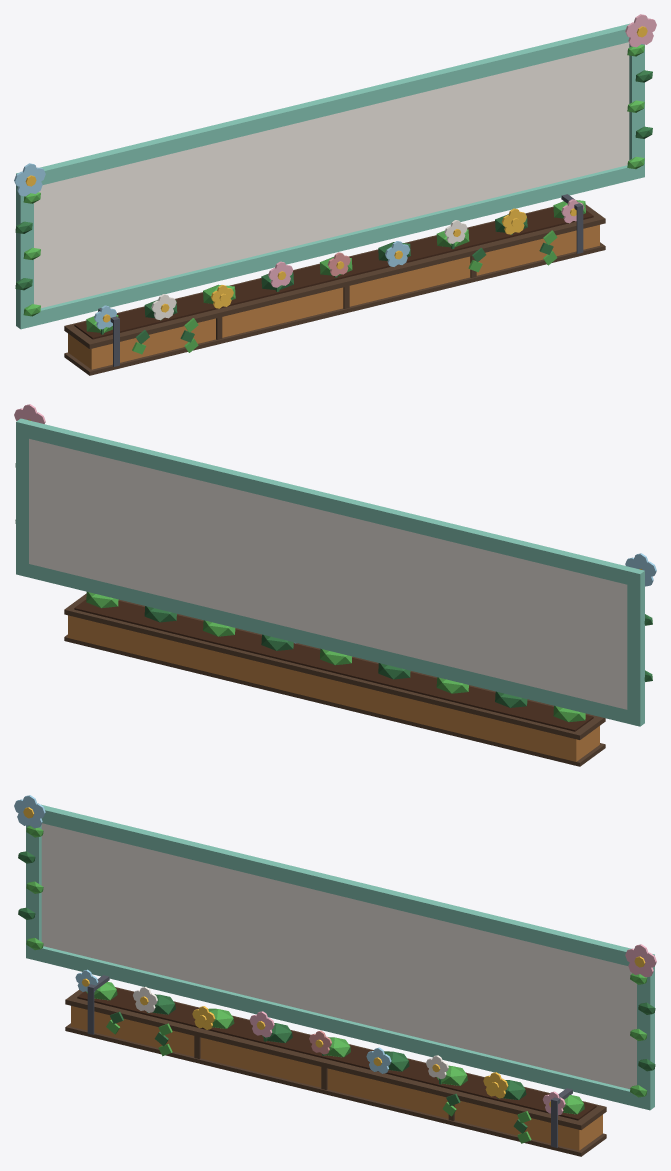
File: CatCafe_Plot_SignFlowerBox.glb
3 views of the same model, one above another, from view 1: azimuth 30°, elevation 25°; view 2: azimuth 150°, elevation 25°; view 3: azimuth 330°, elevation 25° (orthographic).
Visible parts, largest first — view 1: CatCafe_Plot_SignFlowerBox_SignBoard, CatCafe_Plot_SignFlowerBox, CatCafe_Plot_SignFlowerBox_Frame; view 2: CatCafe_Plot_SignFlowerBox_SignBoard, CatCafe_Plot_SignFlowerBox, CatCafe_Plot_SignFlowerBox_Frame; view 3: CatCafe_Plot_SignFlowerBox_SignBoard, CatCafe_Plot_SignFlowerBox, CatCafe_Plot_SignFlowerBox_Frame.
Boxes of the visible parts, x1,y1,x2,y2 form: CatCafe_Plot_SignFlowerBox_SignBoard: (34,42,629,308); CatCafe_Plot_SignFlowerBox: (14,14,656,375); CatCafe_Plot_SignFlowerBox_Frame: (16,23,644,329); CatCafe_Plot_SignFlowerBox_SignBoard: (29,439,627,709); CatCafe_Plot_SignFlowerBox: (14,404,656,766); CatCafe_Plot_SignFlowerBox_Frame: (16,418,644,726); CatCafe_Plot_SignFlowerBox_SignBoard: (41,823,636,1089); CatCafe_Plot_SignFlowerBox: (14,795,656,1156); CatCafe_Plot_SignFlowerBox_Frame: (26,804,654,1110).
Size of the model in its own units: 17.17 by 5.5 by 1.25.
Materials: 1 (1 with a texture image).
